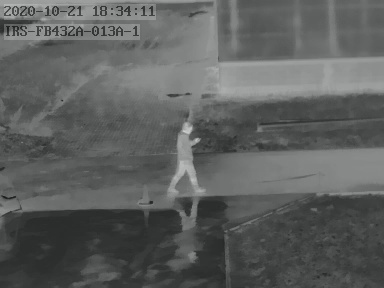person: (167, 120, 206, 194)
